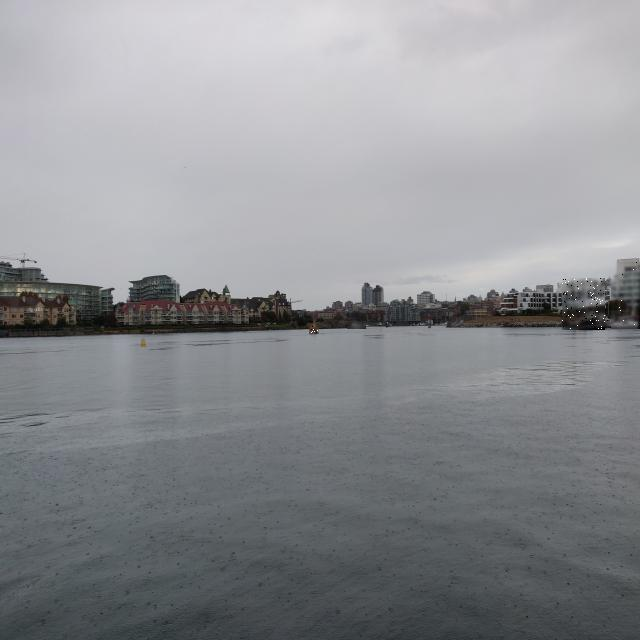aircraft: (347, 321, 366, 329)
boat: (562, 278, 605, 330), (611, 262, 640, 329), (309, 324, 319, 334)
mark: (141, 337, 146, 347), (428, 316, 431, 328), (386, 319, 389, 328), (380, 327, 382, 331), (152, 331, 154, 334)
